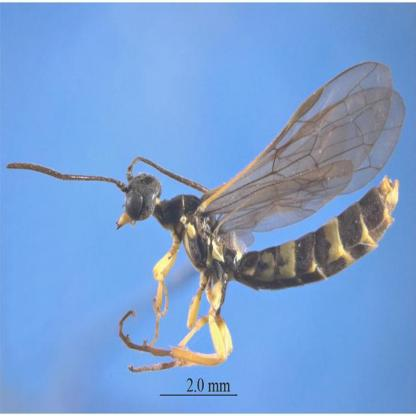sawfly: (10, 58, 406, 378)
